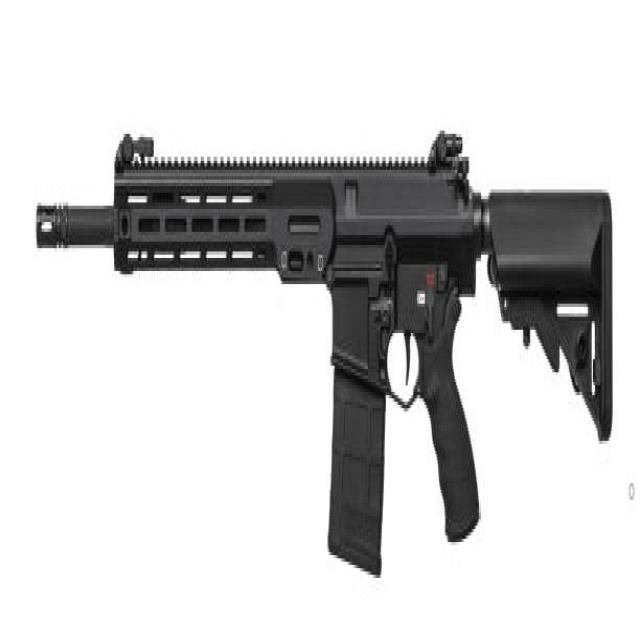rifle: (31, 108, 621, 598)
